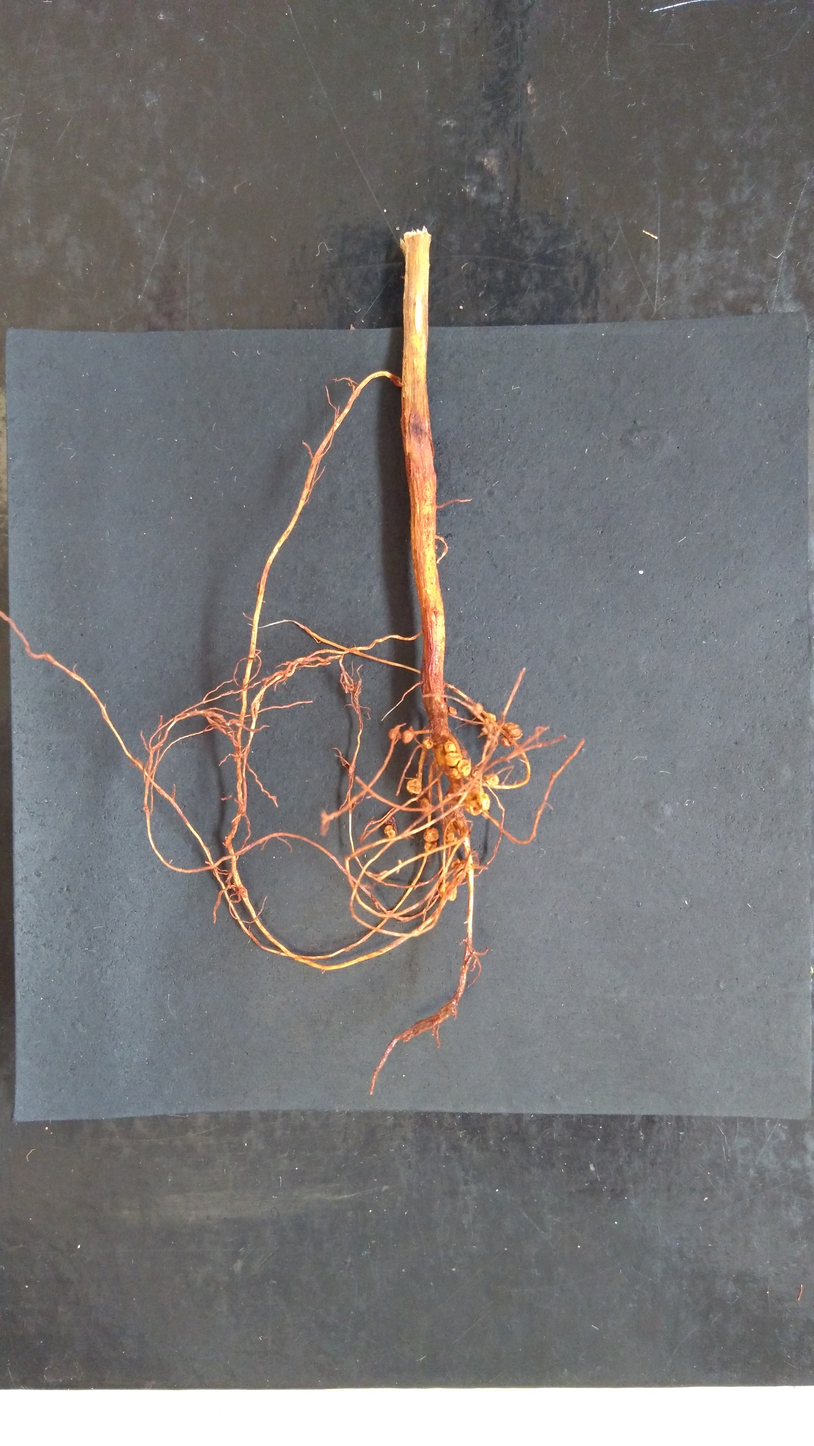nodule: (462, 789, 491, 817), (449, 858, 467, 883), (438, 881, 458, 903), (455, 758, 472, 777), (405, 778, 423, 795), (504, 722, 522, 738), (444, 752, 463, 767), (422, 827, 440, 842), (401, 728, 416, 745), (418, 798, 433, 815), (386, 727, 402, 742), (421, 735, 435, 750), (483, 773, 499, 786), (383, 825, 396, 839), (483, 711, 497, 723), (443, 741, 457, 753), (423, 842, 439, 852), (444, 831, 456, 844), (500, 736, 514, 747), (447, 706, 459, 717)
